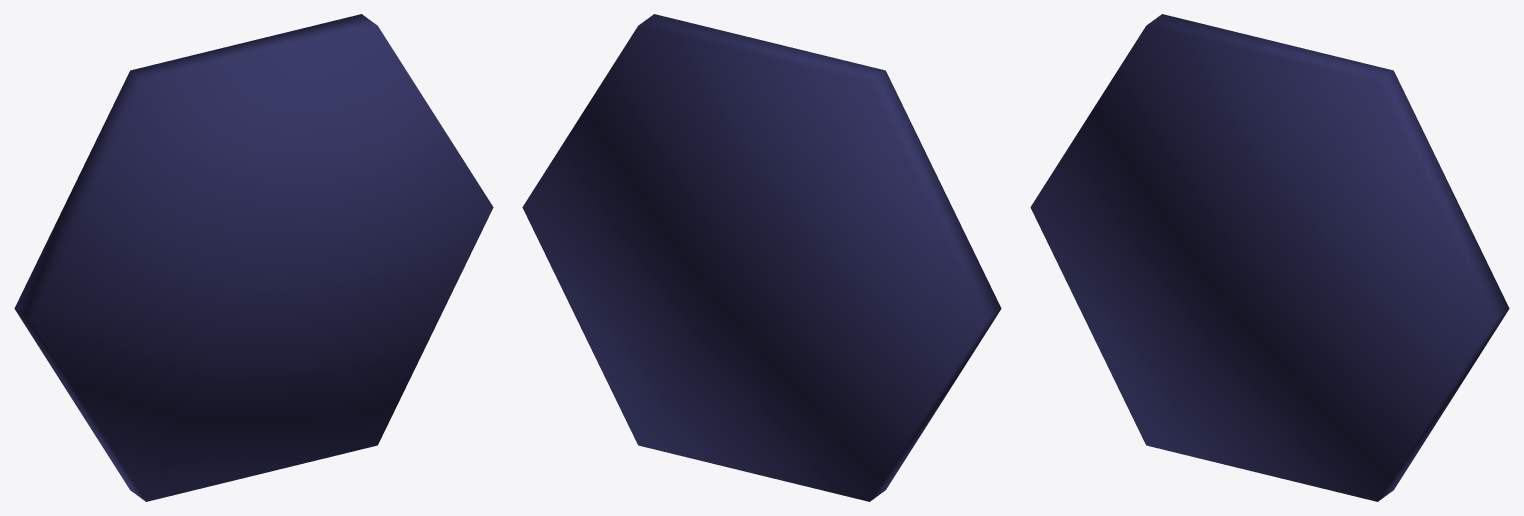
File: hex_coin.glb
3 views of the same model, side by side, from view 1: azimuth 30°, elevation 25°; view 2: azimuth 150°, elevation 25°; view 3: azimuth 330°, elevation 25° (orthographic).
Parts seen in each view (by area): view 1: HexNode; view 2: HexNode; view 3: HexNode.
Part boxes in pixels (x1,y1,x2,y2): HexNode: [14, 14, 493, 501]; HexNode: [522, 14, 1001, 501]; HexNode: [1030, 14, 1509, 501].
Bounding box in the file's own units: 2 × 1.73 × 0.12.
